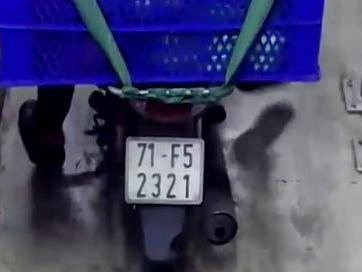num_plate: (124, 133, 204, 205)
